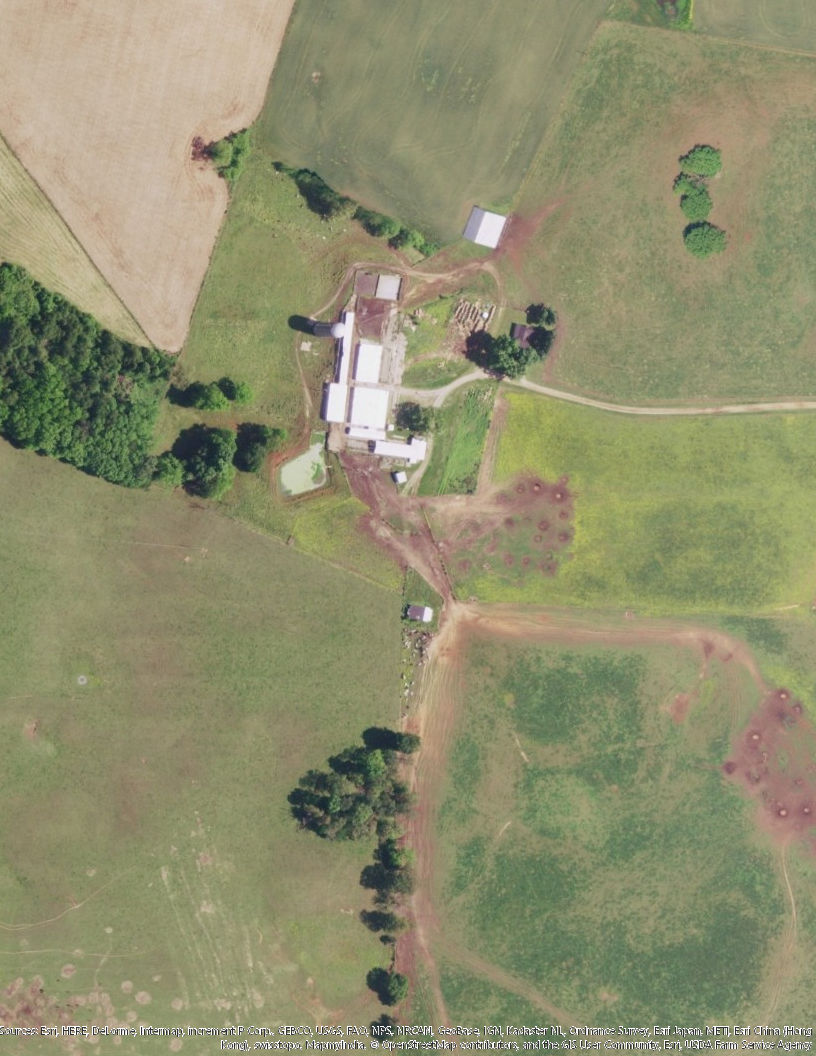cafo: (316, 310, 401, 439), (368, 434, 436, 470)
